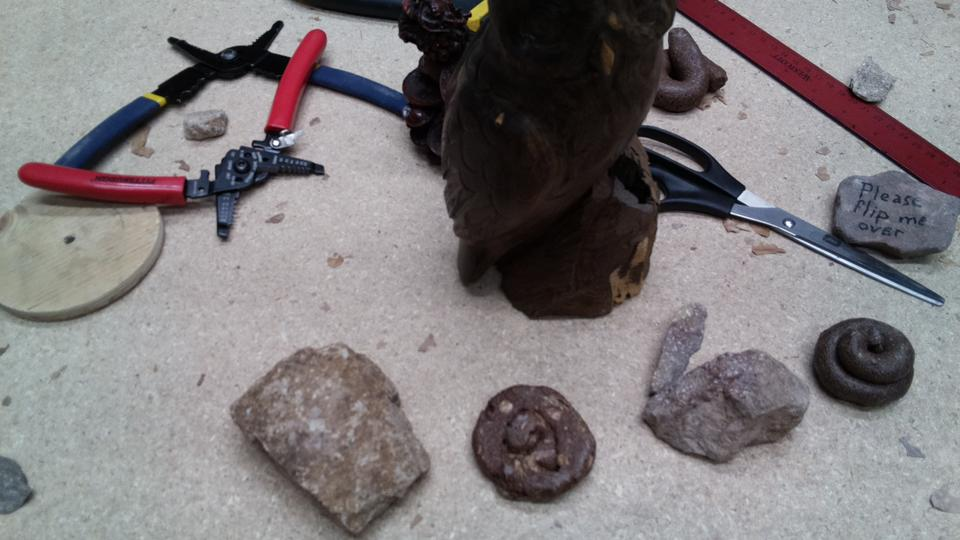poop: (470, 381, 598, 507), (809, 316, 919, 413), (650, 26, 731, 117)
